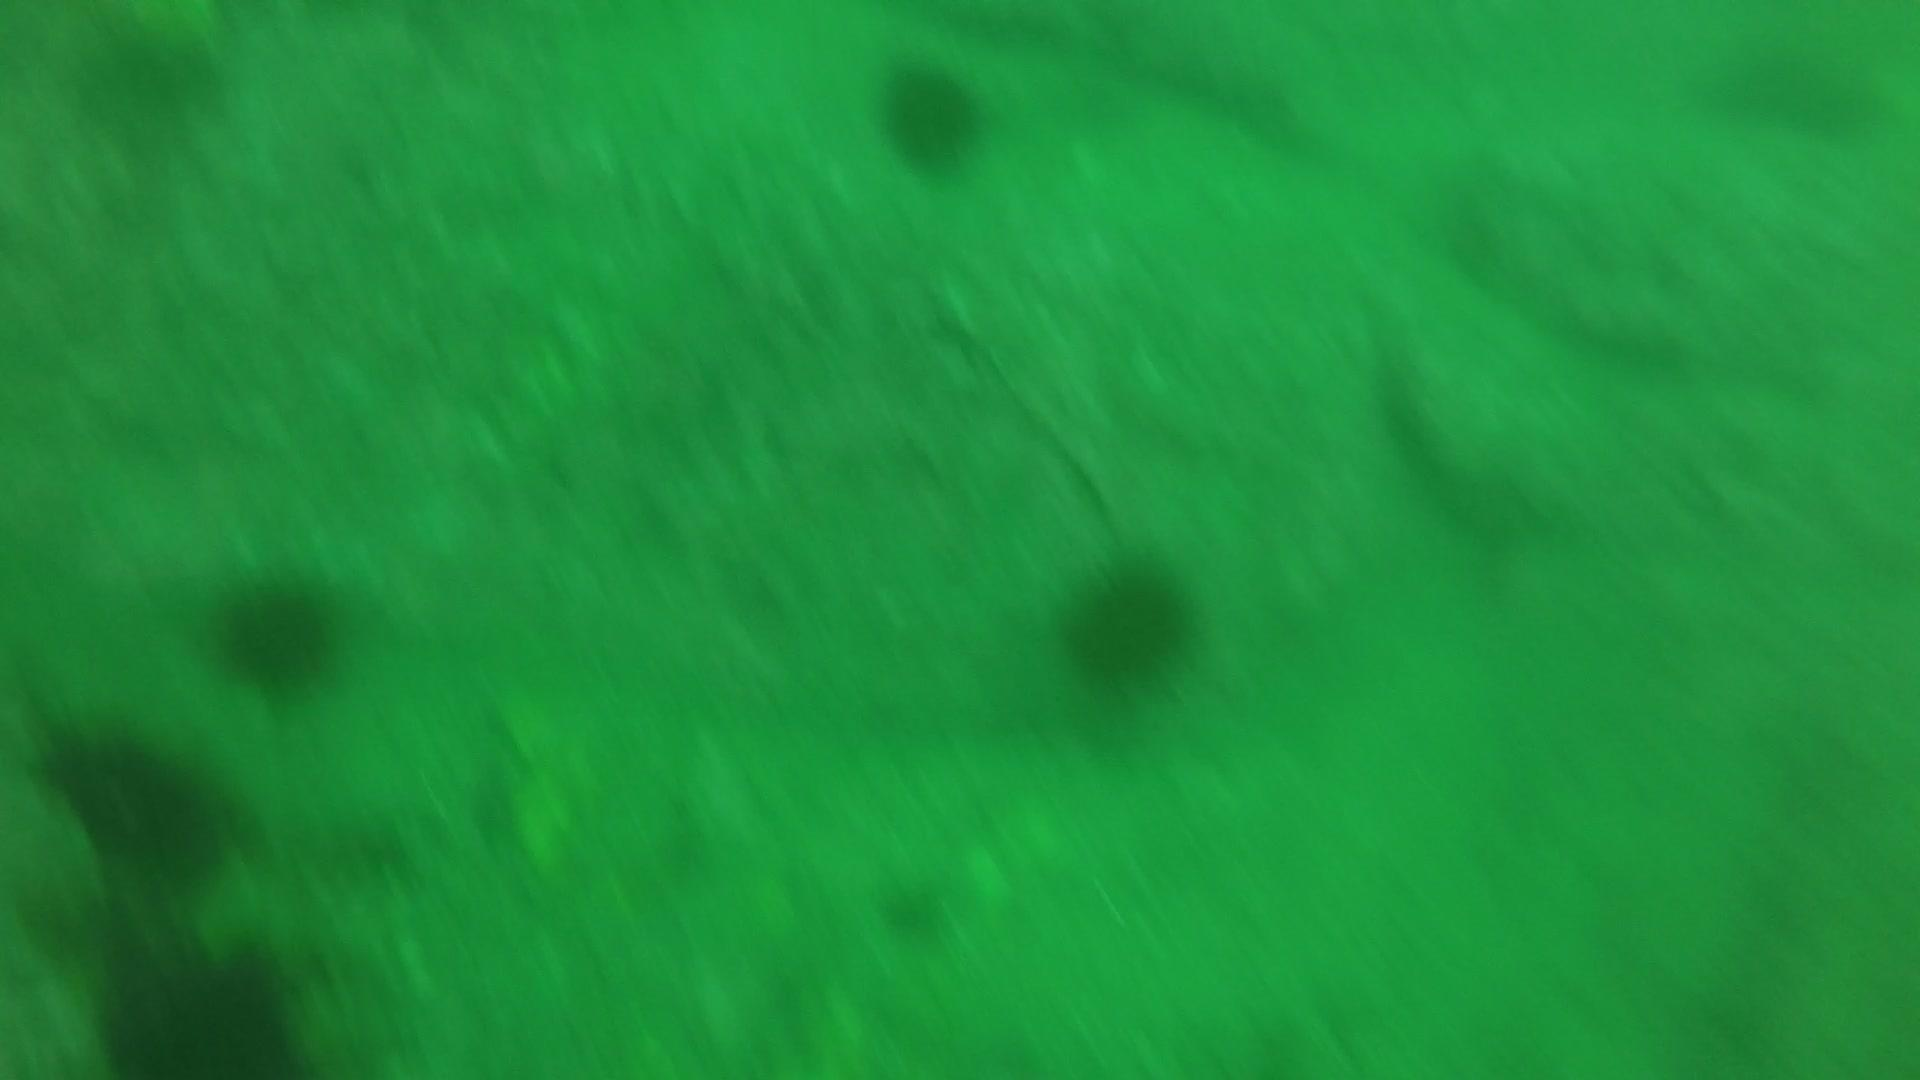echinus: (30, 712, 231, 884), (92, 932, 314, 1077), (1052, 550, 1203, 698), (1691, 33, 1887, 142), (204, 566, 349, 698), (872, 55, 990, 177)
